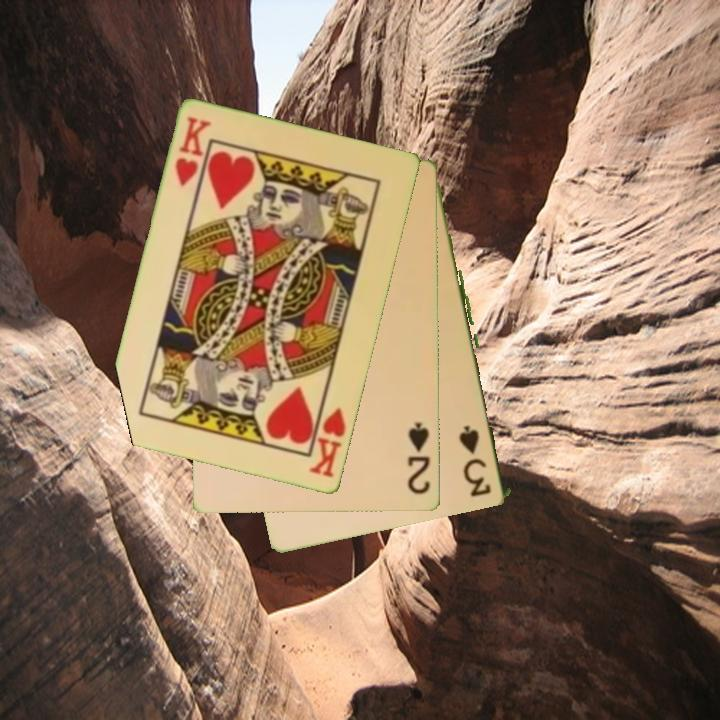2s: (405, 419, 434, 497)
3s: (460, 422, 495, 500)
Kh: (306, 397, 349, 481), (171, 113, 215, 190)
